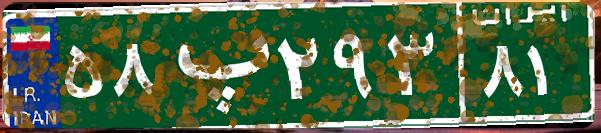1: (525, 38, 570, 115)
2: (273, 28, 330, 110)
3: (385, 28, 445, 110)
5: (57, 26, 110, 107)
8: (475, 38, 525, 113), (110, 28, 158, 105)
9: (330, 28, 385, 110)
پ: (158, 15, 273, 115)
